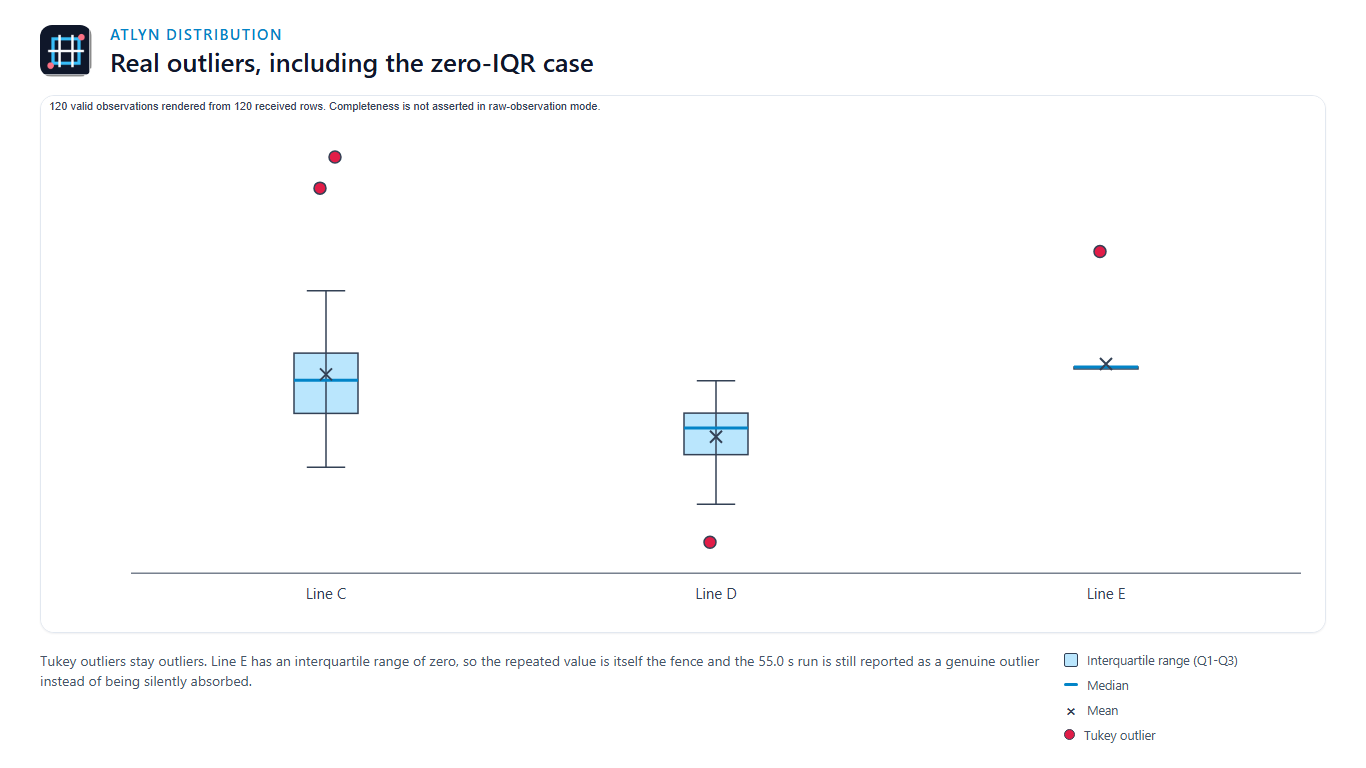

What the dashboard file says about the page in this screenshot:
{"tool":"powerbi","page":{"name":"Cycle time distribution","canvas":[1280,720],"ordinal":0},"visuals":[{"type":"atlynDistributionA1B2C3D4E5F6G7H8I9J0","title":"Cycle time distribution by production line","fields":{"Category":["Measurements.Category"],"Sample":["Measurements.Sample"],"Value":["Sum(Measurements.Value)"]},"box":[40,40,1200,620],"z":0}]}

Visuals, with their boxes in screenshot pixels (x1, y1, x2, y2), scaled from the page's 1280x720 canvas onto the 1366x768 screenshot:
"Cycle time distribution by production line" atlynDistributionA1B2C3D4E5F6G7H8I9J0: {"x1": 43, "y1": 43, "x2": 1323, "y2": 704}
